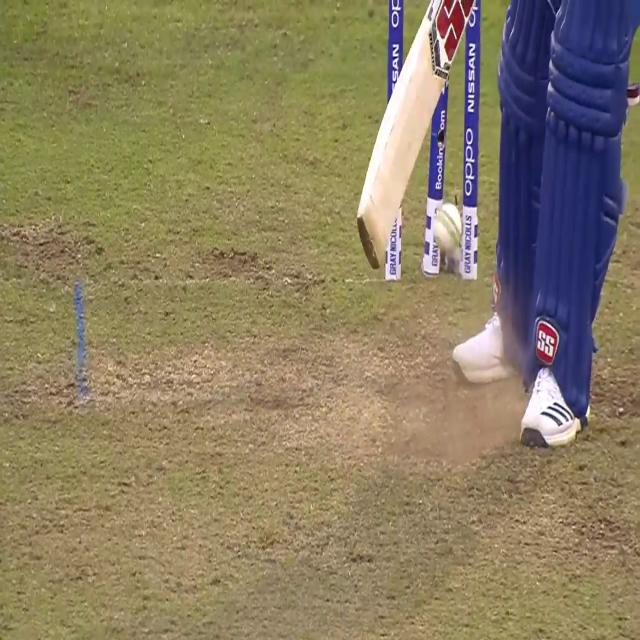ball: (432, 198, 463, 254)
